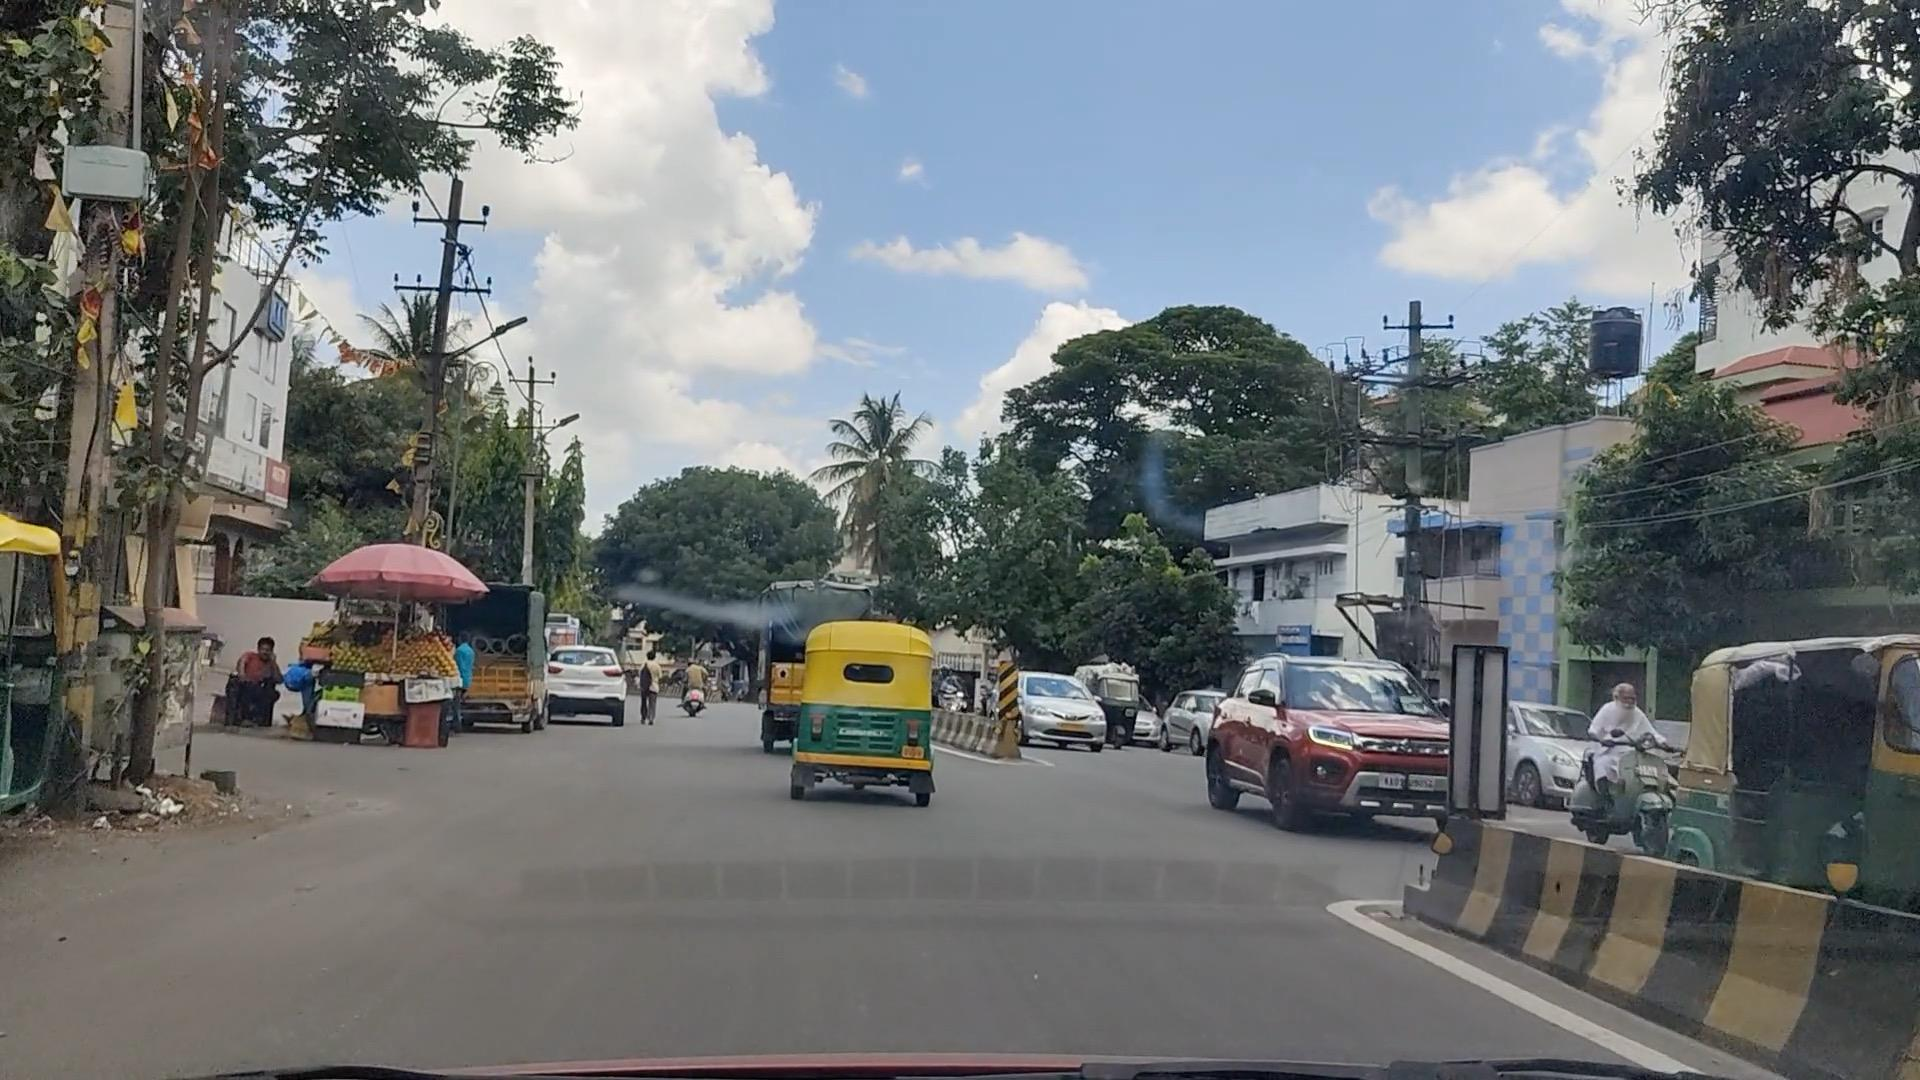LMV: (807, 624, 932, 794)
